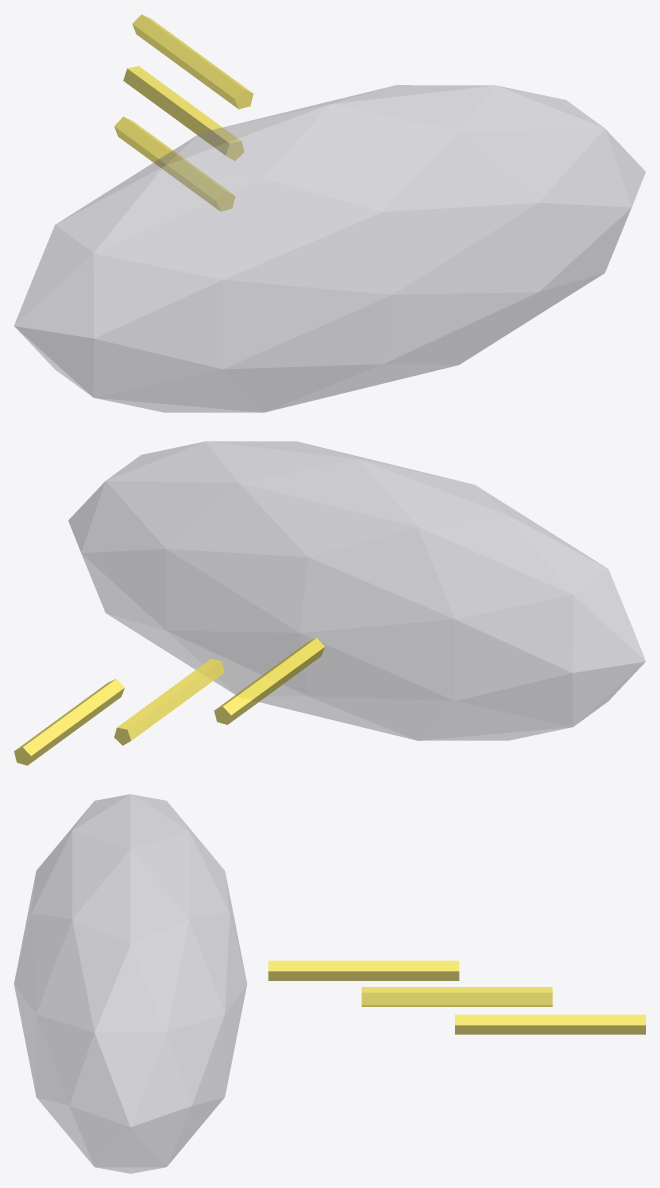
Rendered from 06_lightning_cloud_proxy.glb.
3 views of the same model, one above another, from view 1: azimuth 30°, elevation 25°; view 2: azimuth 150°, elevation 25°; view 3: azimuth 270°, elevation 25° (orthographic). The views are drawn at different scales.
Parts seen in each view (by area): view 1: cloud, bolt_2, bolt_0, bolt_1; view 2: cloud, bolt_2, bolt_0, bolt_1; view 3: cloud, bolt_0, bolt_2, bolt_1.
Part boxes in pixels (box(x1,y1,x2,y2)): cloud: box(14, 85, 645, 412); bolt_2: box(132, 14, 253, 109); bolt_0: box(114, 116, 235, 211); bolt_1: box(123, 66, 244, 160); cloud: box(68, 441, 645, 740); bolt_2: box(14, 679, 124, 765); bolt_0: box(214, 638, 324, 724); bolt_1: box(114, 659, 224, 745); cloud: box(14, 794, 246, 1173); bolt_0: box(268, 960, 459, 980); bolt_2: box(455, 1014, 645, 1034); bolt_1: box(361, 987, 552, 1006).
Bounding box in the file's own units: 1.6 × 0.7 × 1.49.
